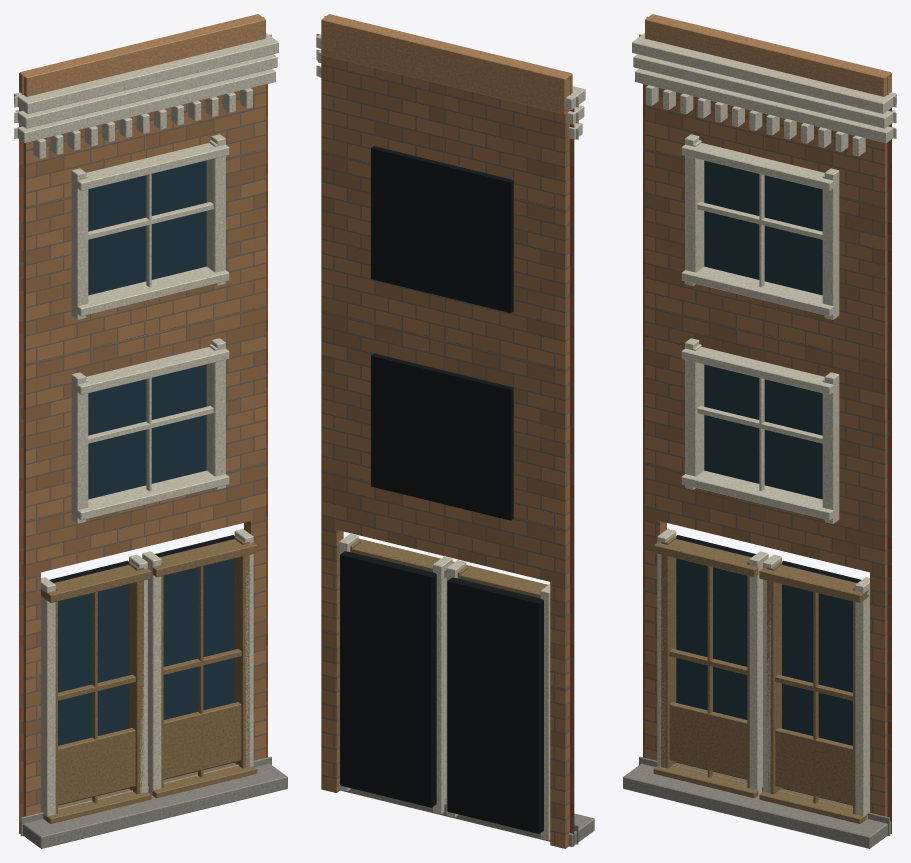
The model's file is OFFC10_lod1.glb.
The picture shows the model from 3 angles, left to right: view 1: azimuth 30°, elevation 25°; view 2: azimuth 150°, elevation 25°; view 3: azimuth 330°, elevation 25°; orthographic projection.
Parts seen in each view (by area): view 1: OFFC10_FRONT_LOD1; view 2: OFFC10_FRONT_LOD1; view 3: OFFC10_FRONT_LOD1.
Part boxes in pixels (x1,y1,x2,y2): OFFC10_FRONT_LOD1: (14, 14, 287, 848); OFFC10_FRONT_LOD1: (316, 14, 594, 848); OFFC10_FRONT_LOD1: (623, 14, 896, 848).
Size of the model in its own units: 3.44 by 9.66 by 0.68.
9 materials, 7 textured.
